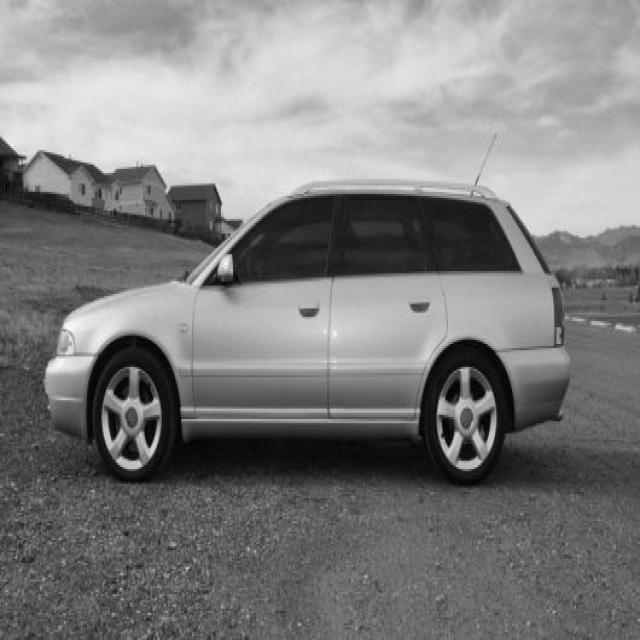car: (42, 175, 571, 486)
